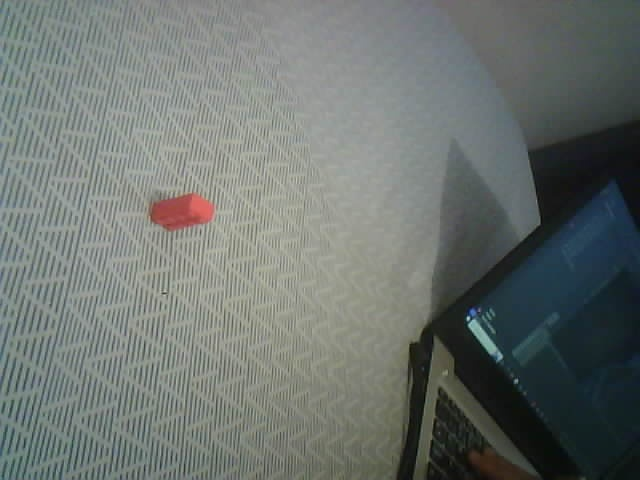lego: (150, 193, 215, 232)
